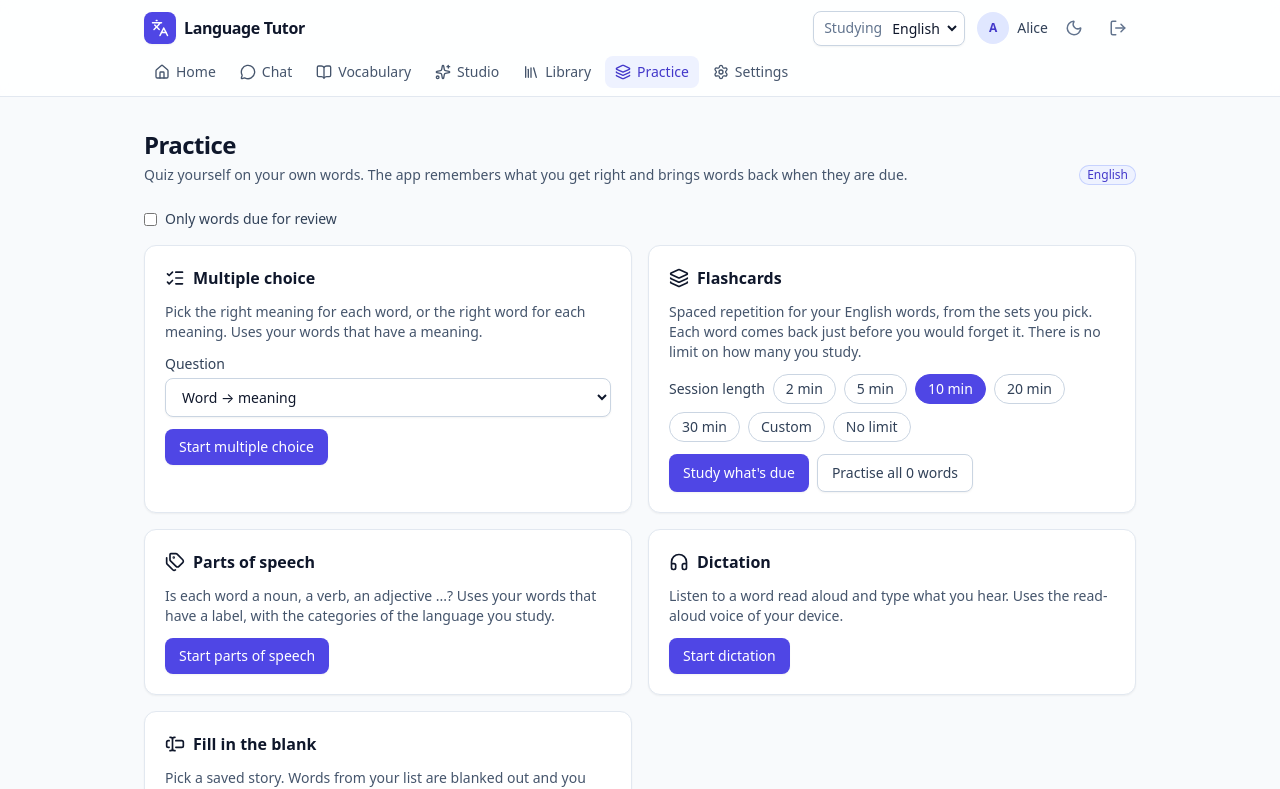
parts-of-speech practice › points to Vocabulary when no word has a label
The image size is (1280, 789).
Click the button "Start parts of speech" at (247, 656), box [165,638,329,674]
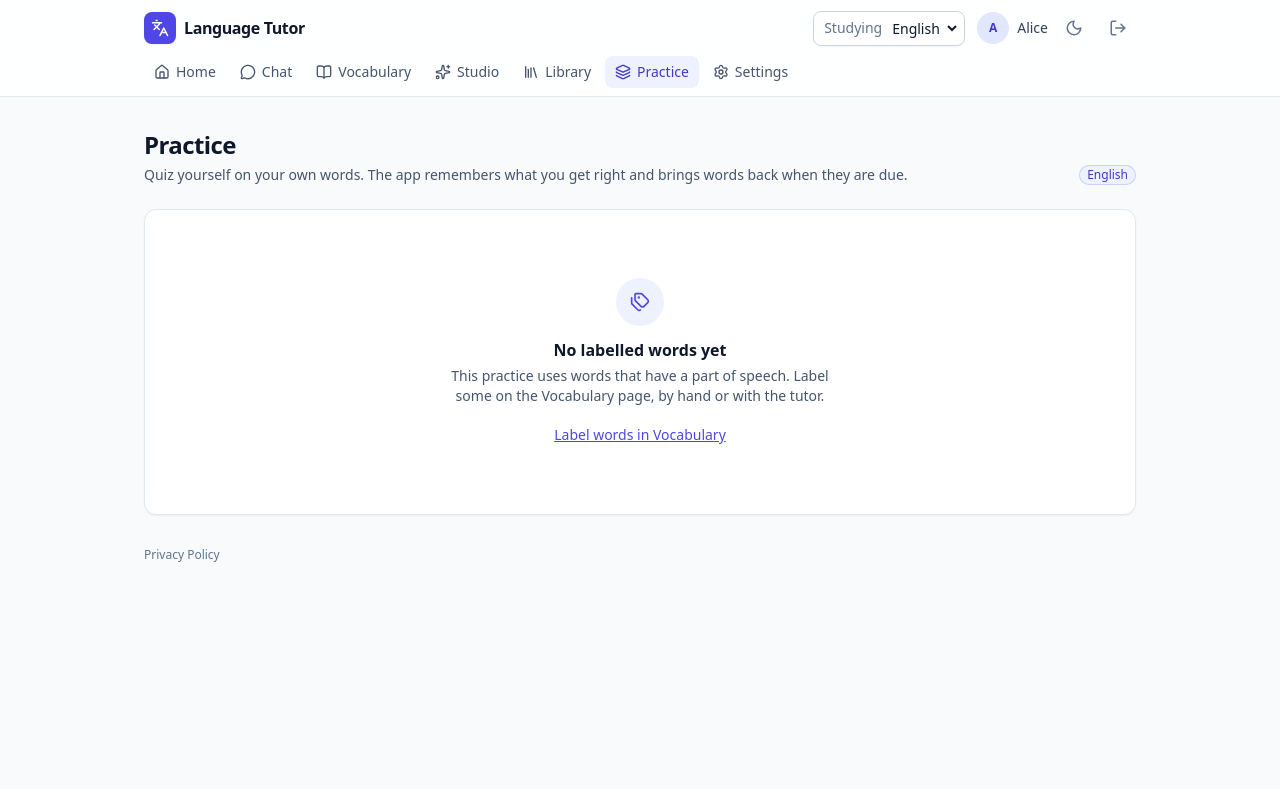
Result: the heading "No labelled words yet" is shown at [554,338,726,362]
